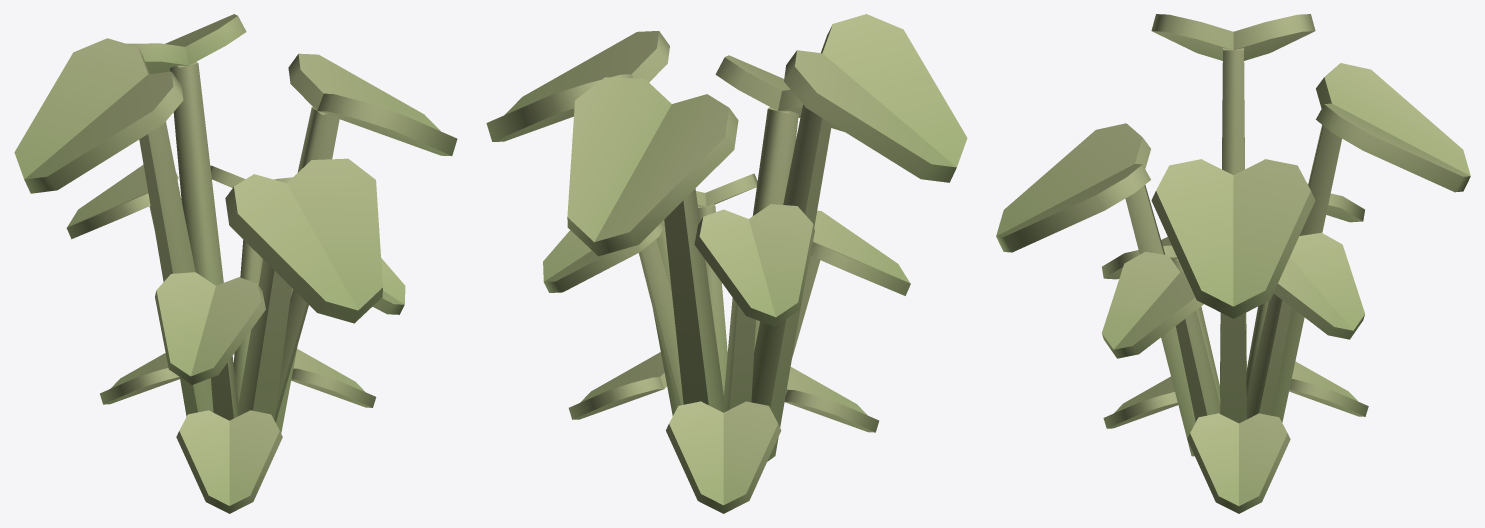
File: plant-separate-type-d.glb
3 views of the same model, side by side, from view 1: azimuth 30°, elevation 25°; view 2: azimuth 150°, elevation 25°; view 3: azimuth 270°, elevation 25° (orthographic). The views are drawn at different scales.
Parts seen in each view (by area): view 1: plant-separate-type-d; view 2: plant-separate-type-d; view 3: plant-separate-type-d.
Boxes of the visible parts, x1=… form: plant-separate-type-d: x1=14, y1=14, x2=457, y2=513; plant-separate-type-d: x1=486, y1=14, x2=967, y2=513; plant-separate-type-d: x1=996, y1=14, x2=1470, y2=513.
Bounding box in the file's own units: 0.6495 × 0.605 × 0.6495.
